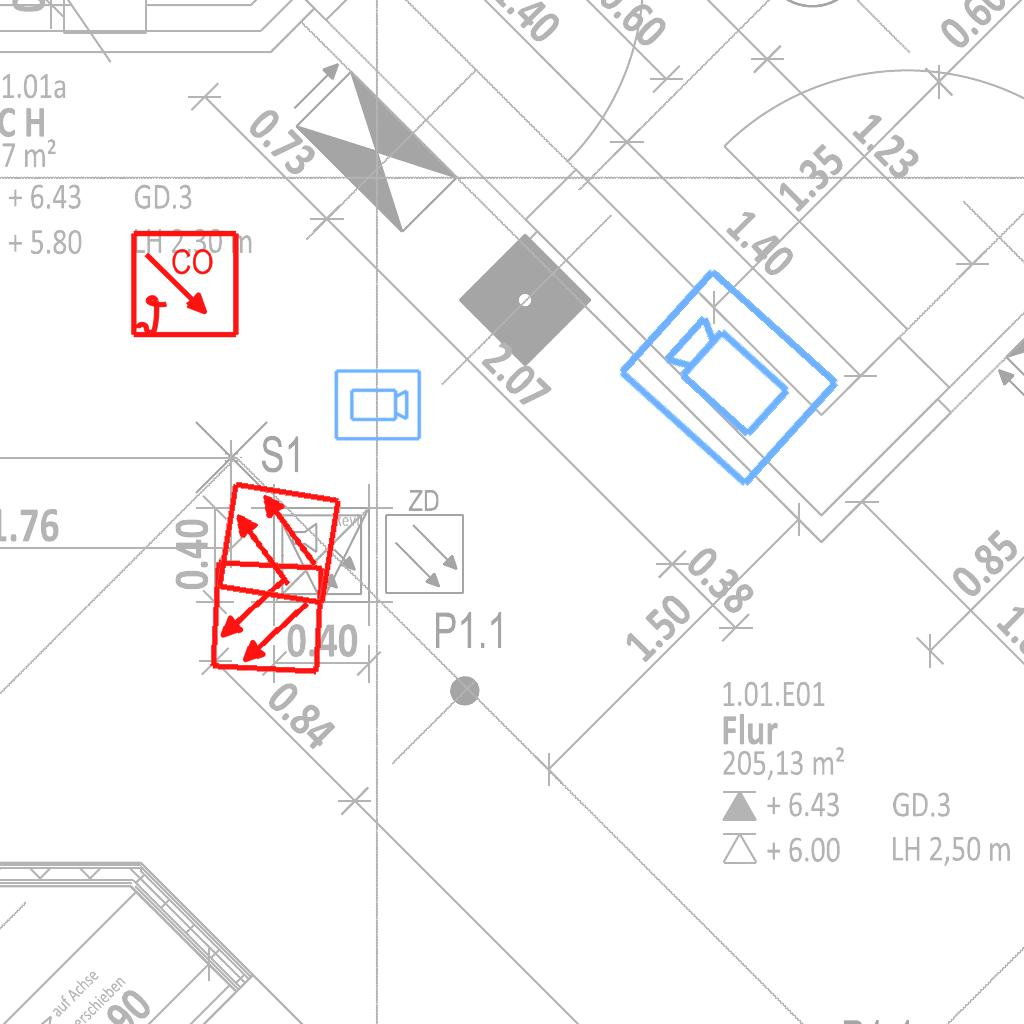KFO_Kamera_mit_Festobjektiv: (610, 258, 850, 496), (332, 367, 423, 444)
RMO_Rauchmelder_optischer: (213, 478, 344, 609), (208, 558, 327, 677)
ROA_Rauchmelder_optisch_mit_Signalgeber_(Sockelsirene): (129, 229, 242, 342)
